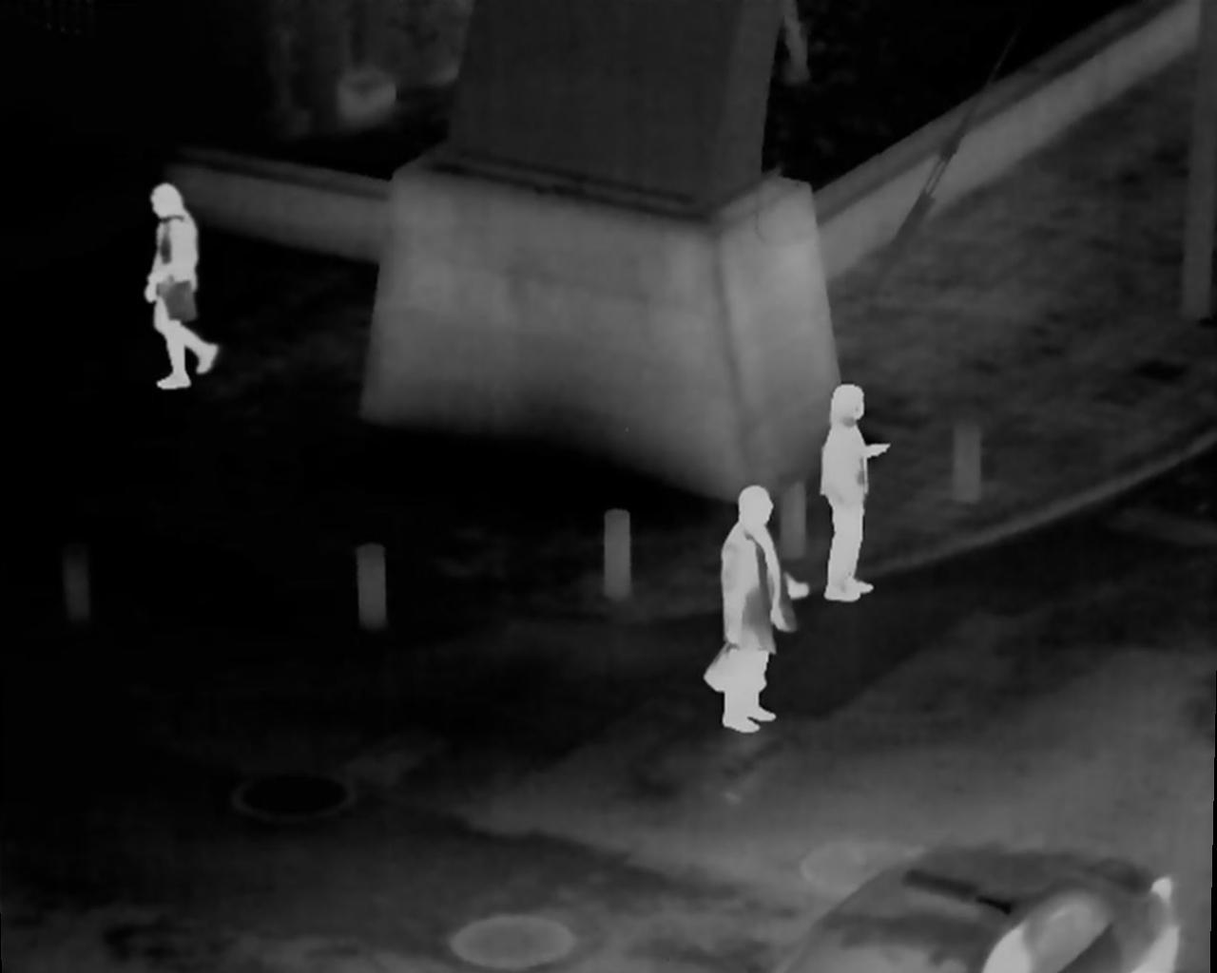person: (704, 480, 807, 731), (818, 384, 893, 602), (145, 183, 214, 395)
